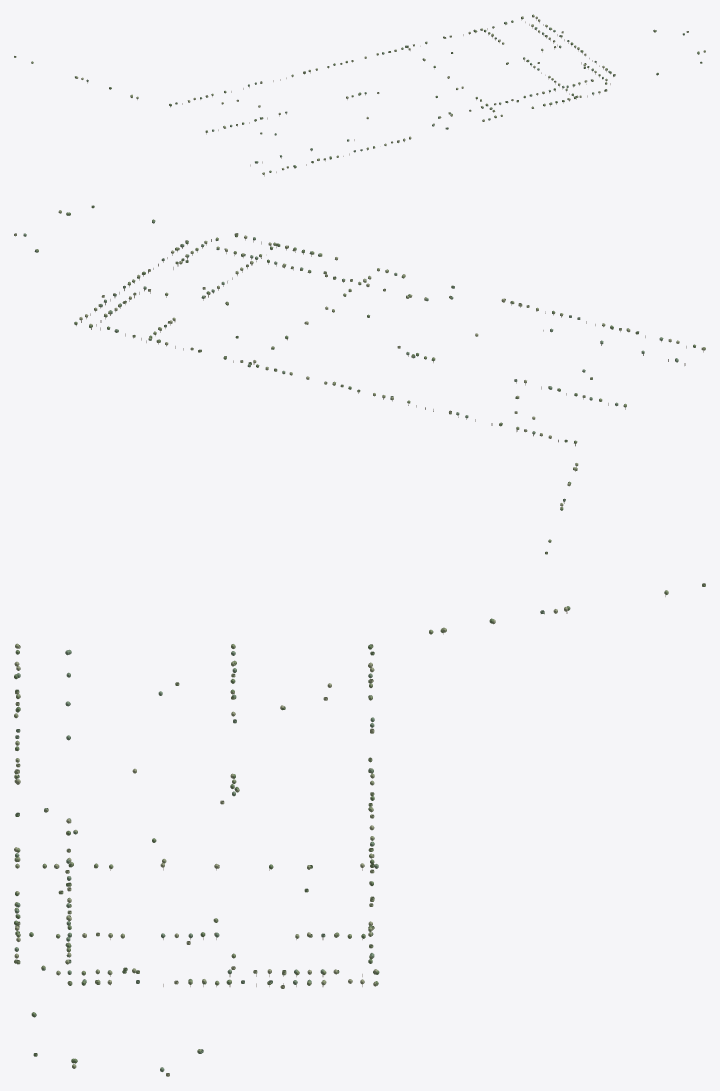
File: shared-05-medium.glb
The picture shows the model from 3 angles, top to bottom: view 1: azimuth 30°, elevation 25°; view 2: azimuth 150°, elevation 25°; view 3: azimuth 270°, elevation 25°; orthographic projection. The views are drawn at different scales.
Visible parts, largest first — view 1: Canopy 2 details.001, Canopy 3 details.001, Canopy 4 details.001, Canopy 1 details.001, Canopy 0 details.001; view 2: Canopy 3 details.001, Canopy 2 details.001, Canopy 4 details.001, Canopy 1 details.001; view 3: Canopy 2 details.001, Canopy 4 details.001, Canopy 3 details.001, Canopy 1 details.001, Canopy 0 details.001.
Boxes of the visible parts, x1,y1,x2,y2 form: Canopy 2 details.001: [130, 24, 705, 174]; Canopy 3 details.001: [86, 21, 684, 166]; Canopy 4 details.001: [76, 15, 688, 173]; Canopy 1 details.001: [14, 23, 655, 160]; Canopy 0 details.001: [75, 14, 702, 172]; Canopy 3 details.001: [23, 221, 678, 501]; Canopy 2 details.001: [58, 210, 705, 470]; Canopy 4 details.001: [14, 233, 703, 507]; Canopy 1 details.001: [36, 233, 628, 554]; Canopy 2 details.001: [14, 627, 446, 1068]; Canopy 4 details.001: [14, 607, 567, 1076]; Canopy 3 details.001: [14, 610, 544, 1071]; Canopy 1 details.001: [14, 583, 705, 1053]; Canopy 0 details.001: [14, 606, 570, 1063].
Size of the model in its own units: 978 by 8.07 by 583.
